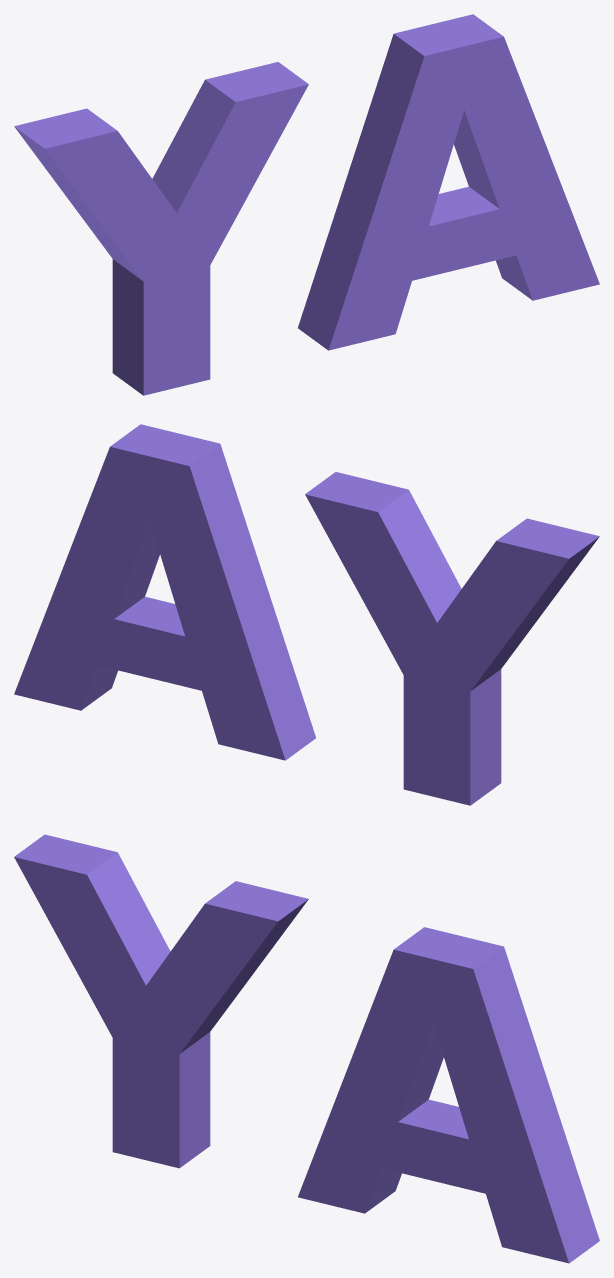
File: suku_besar_ya.glb
The picture shows the model from 3 angles, top to bottom: view 1: azimuth 30°, elevation 25°; view 2: azimuth 150°, elevation 25°; view 3: azimuth 330°, elevation 25°; orthographic projection.
Visible parts, largest first — view 1: geometry_0; view 2: geometry_0; view 3: geometry_0.
Part boxes in pixels (x1=…): geometry_0: x1=14, y1=14, x2=599, y2=395; geometry_0: x1=14, y1=424, x2=599, y2=805; geometry_0: x1=14, y1=834, x2=599, y2=1263.
Bounding box in the file's own units: 15.63 × 7.29 × 1.5.
